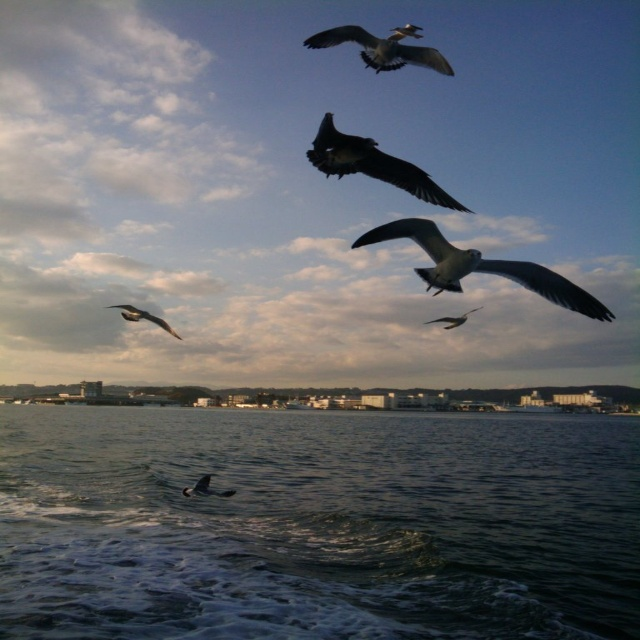Eagle: (347, 218, 618, 324), (305, 112, 479, 217), (303, 24, 463, 80)
